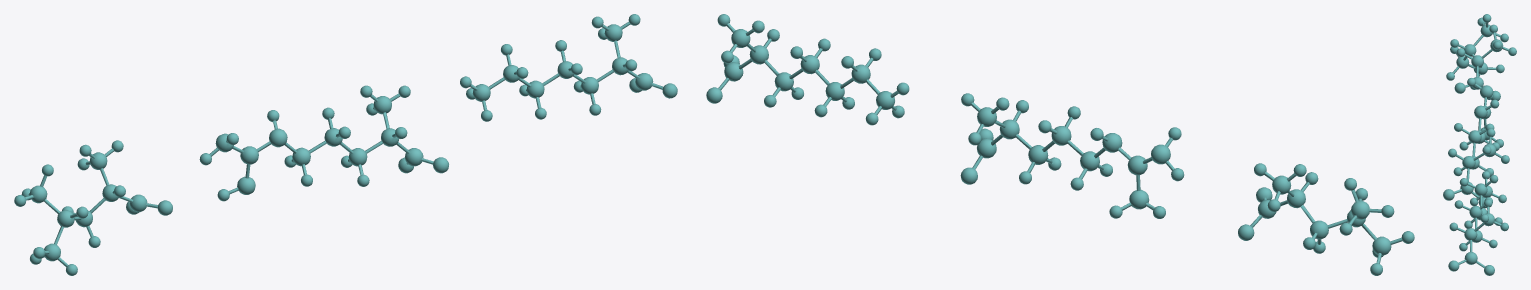
Rendered from enzimas_one.fbx.
3 views of the same model, side by side, from view 1: azimuth 30°, elevation 25°; view 2: azimuth 150°, elevation 25°; view 3: azimuth 270°, elevation 25° (orthographic). The views are drawn at different scales.
Visible parts, largest first — view 1: arginina.001, lisina.001, leucina.001; view 2: arginina.001, lisina.001, leucina.001; view 3: arginina.001, lisina.001, leucina.001.
Part boxes in pixels (x1,y1,x2,y2): arginina.001: [199, 85, 448, 201]; lisina.001: [460, 14, 677, 121]; leucina.001: [14, 140, 172, 275]; arginina.001: [960, 93, 1184, 218]; lisina.001: [706, 14, 909, 125]; leucina.001: [1238, 163, 1414, 275]; arginina.001: [1443, 78, 1509, 208]; lisina.001: [1448, 171, 1508, 275]; leucina.001: [1446, 14, 1516, 100].
Bounding box in the file's own units: 465 × 73.53 × 64.09.
